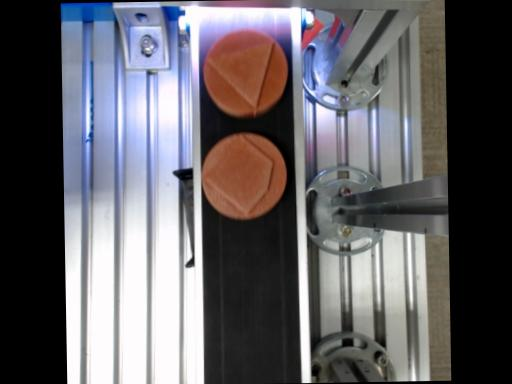Brown_Waper: (202, 132, 286, 218), (203, 30, 287, 116)
